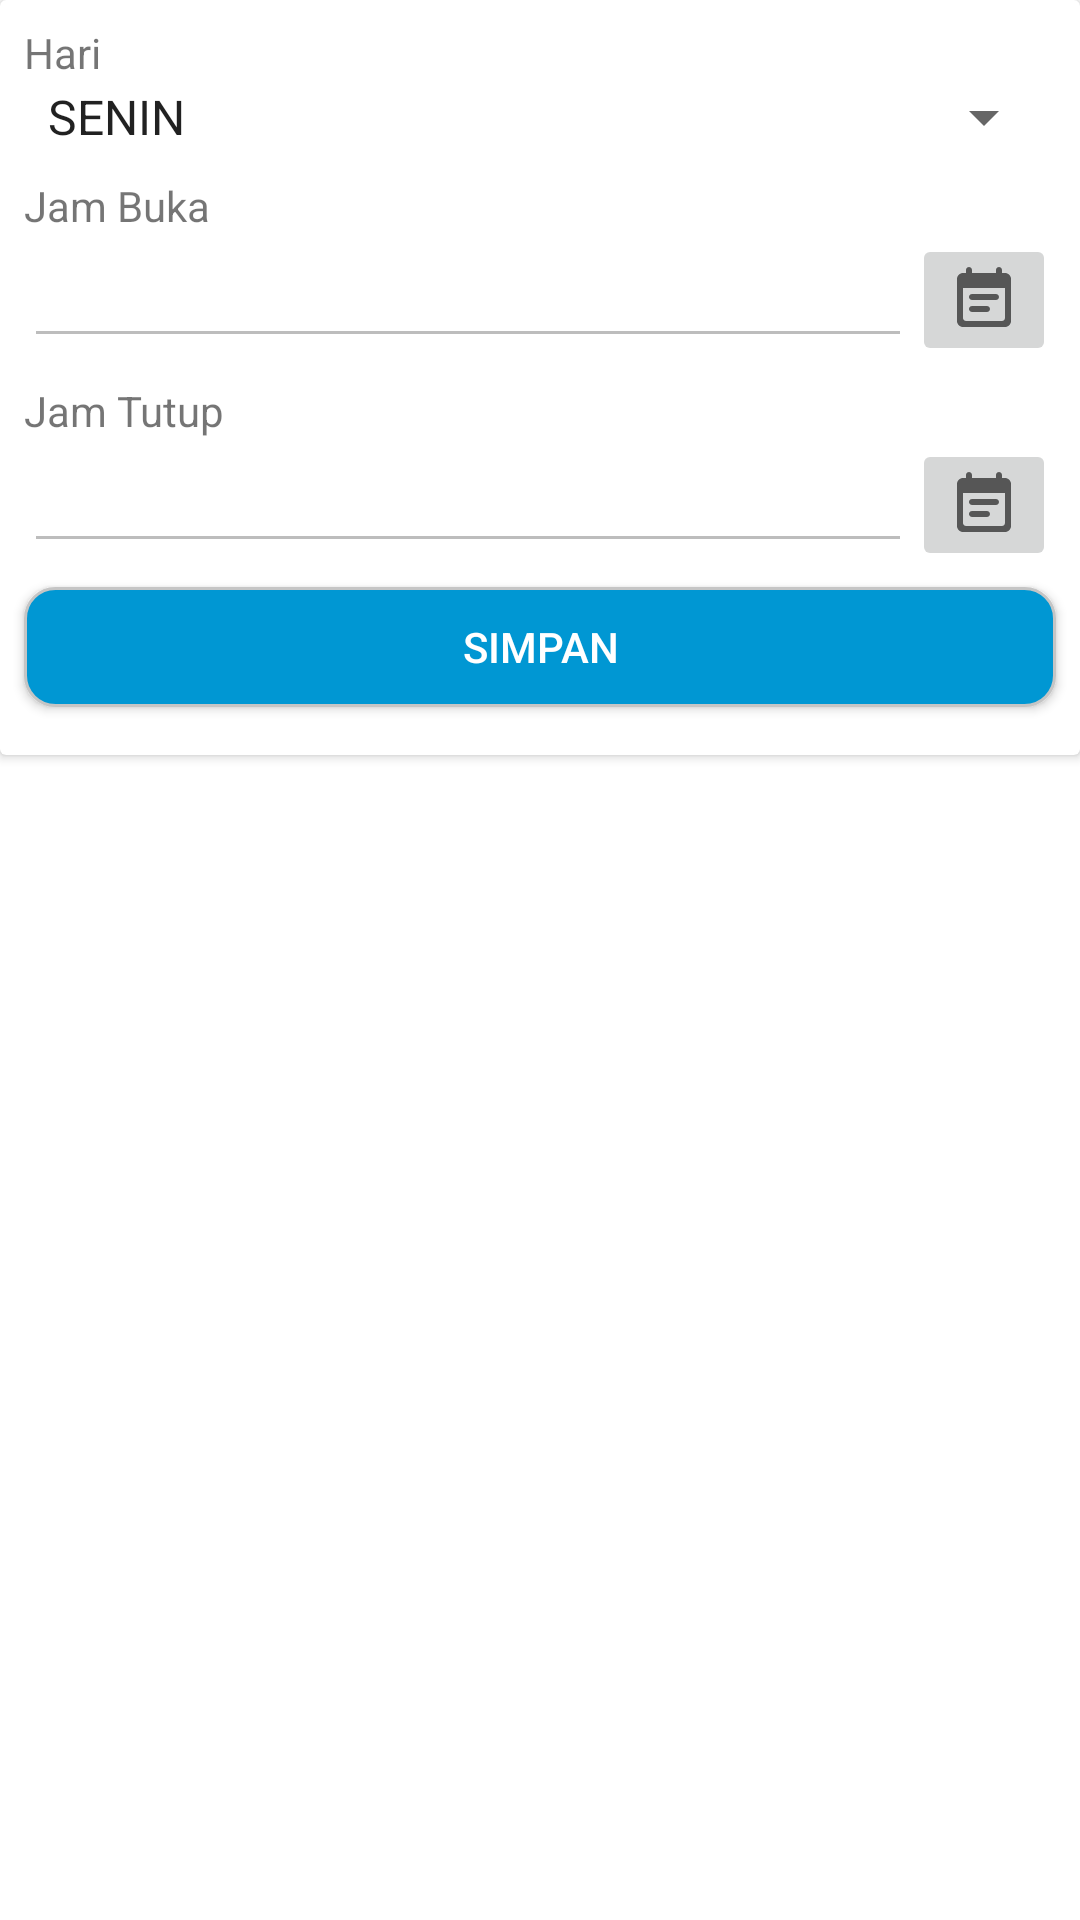

Icon bounding boxes for this 1080 × 1920 phone screenshot, format (x1, y1, x2, y2):
event note: (924, 252, 1044, 348), (924, 457, 1044, 553)
